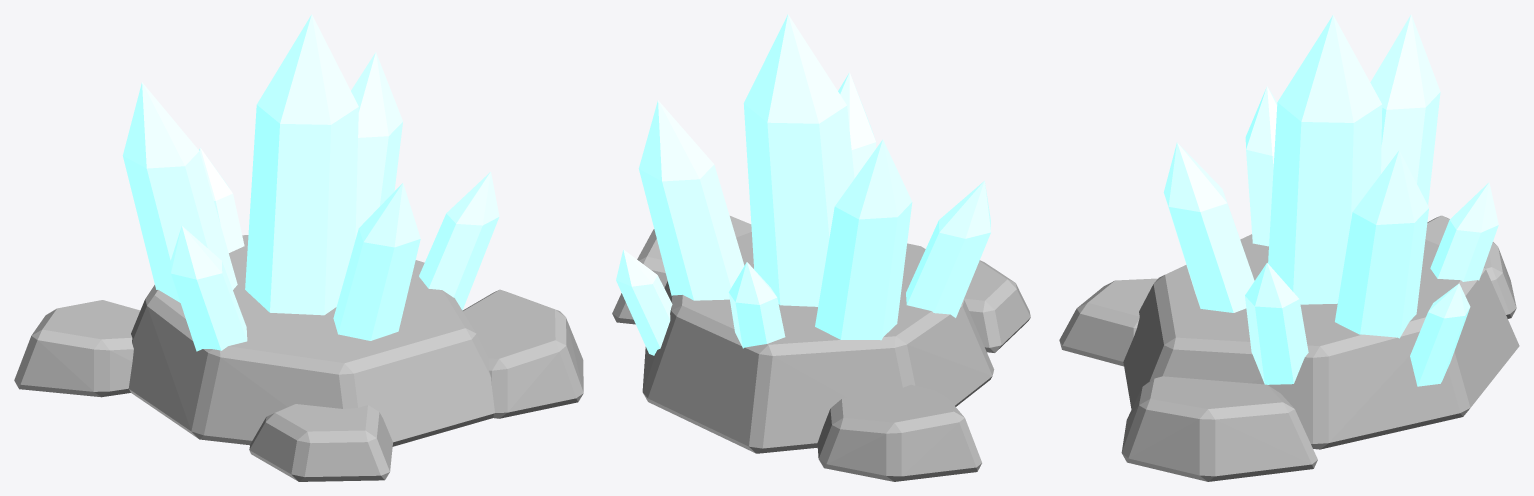
File: env_crystal_cluster.fbx
3 renders of one model, left to right at view 1: azimuth 30°, elevation 25°; view 2: azimuth 150°, elevation 25°; view 3: azimuth 270°, elevation 25°, orthographic. The views are drawn at different scales.
Parts seen in each view (by area): view 1: Base, Crystal; view 2: Crystal, Base; view 3: Crystal, Base.
Boxes of the visible parts, x1,y1,x2,y2 form: Base: (14, 235, 583, 481); Crystal: (122, 14, 499, 351); Crystal: (616, 14, 990, 355); Base: (612, 216, 1030, 481); Crystal: (1163, 14, 1498, 386); Base: (1059, 215, 1519, 481).
Bounding box in the file's own units: 8.88 × 6.7 × 7.66.
